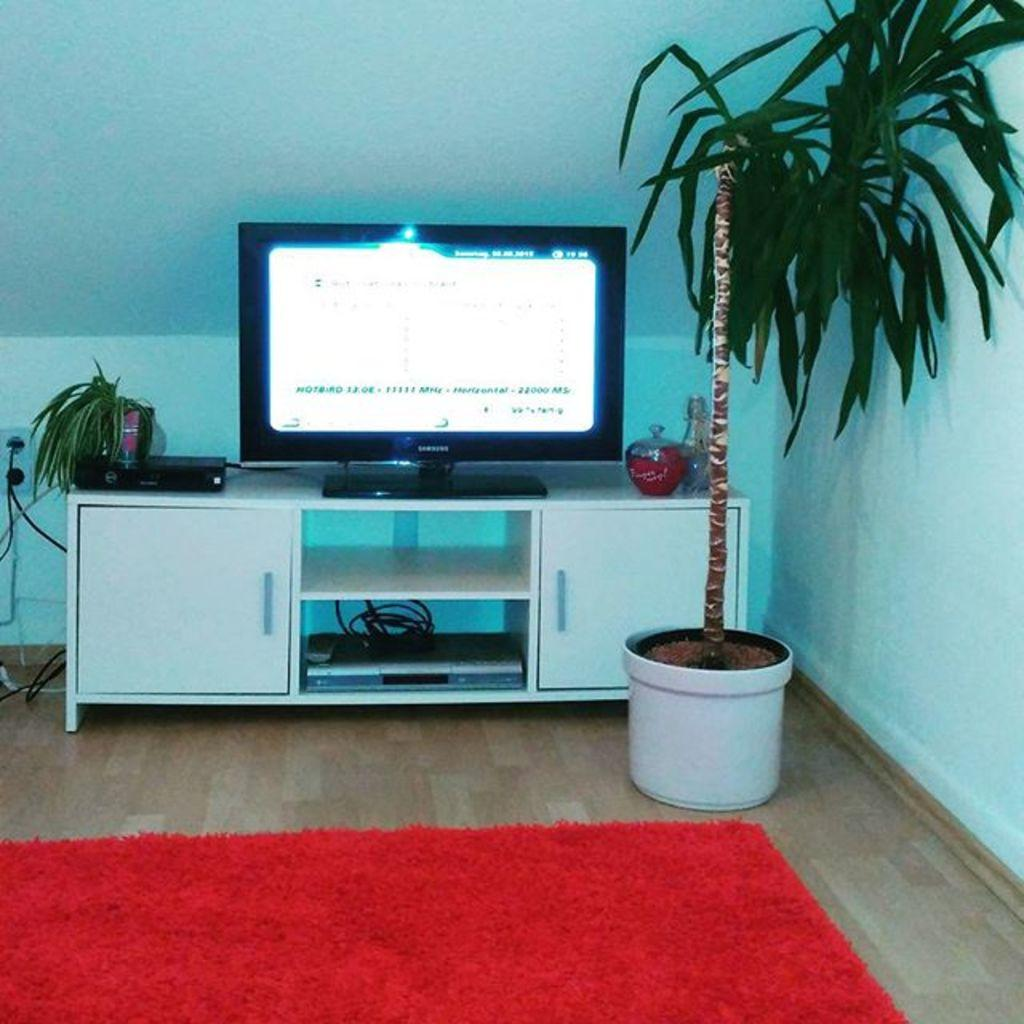Computer-monitor: (230, 218, 640, 509)
